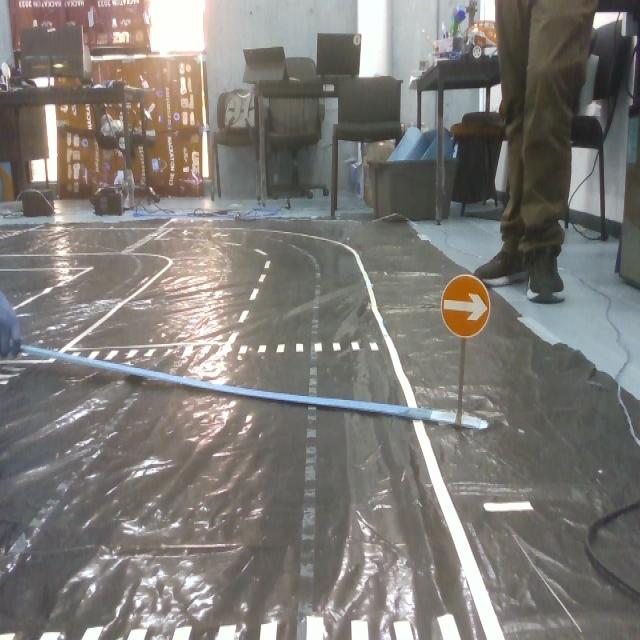left_turn: (434, 273, 485, 342)
